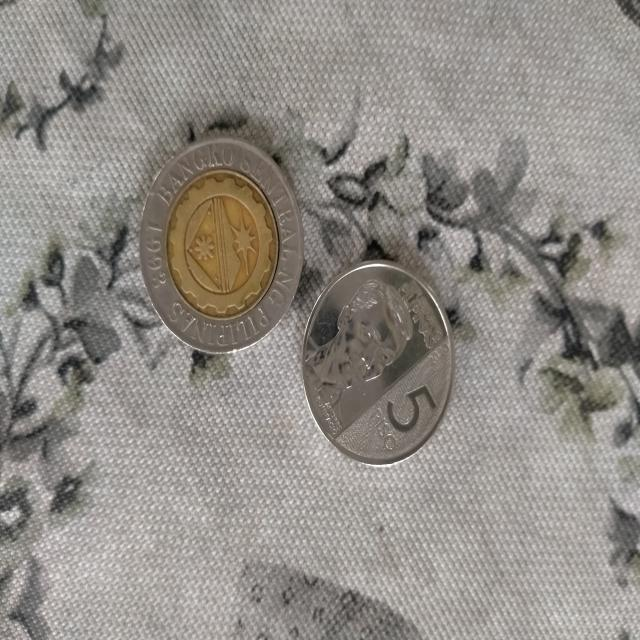10_Old_Back: (140, 141, 300, 351)
5_New_Front: (370, 366, 438, 451)
